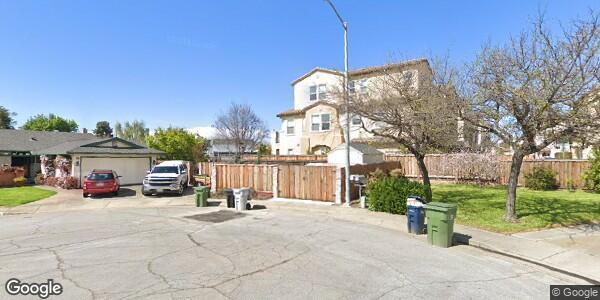Steel_Pole: (324, 1, 354, 209)
